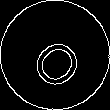O_NE: (22, 22, 88, 88)
